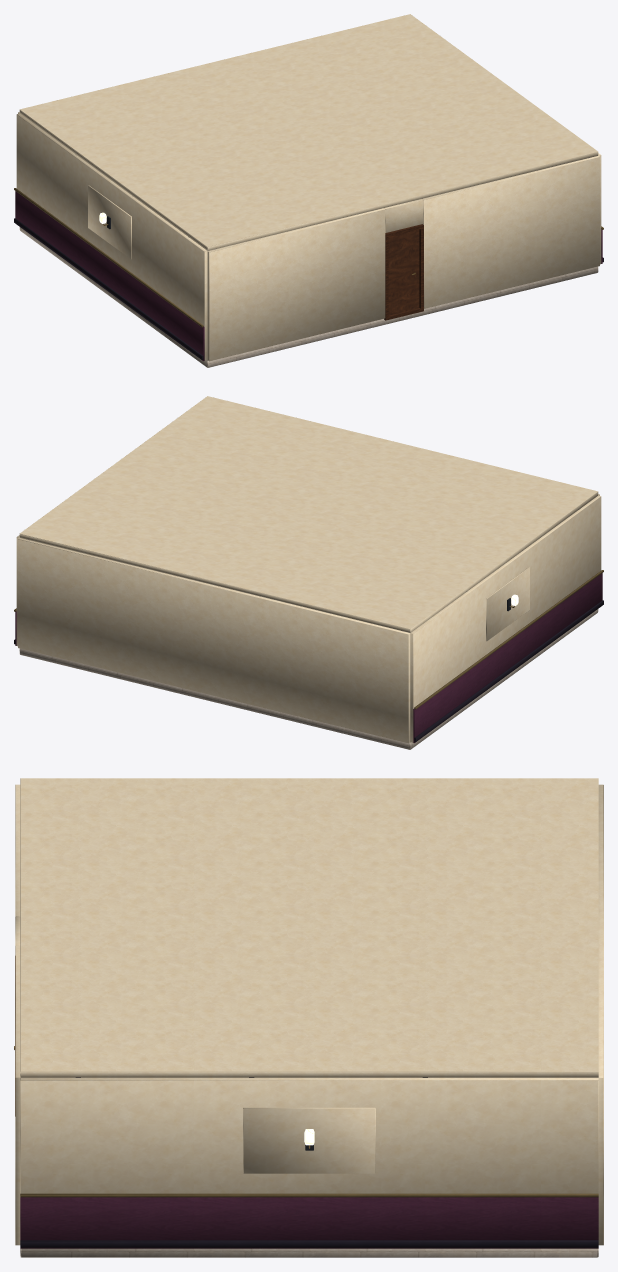
The model's file is explore3d__archive_room.glb.
The picture shows the model from 3 angles, top to bottom: view 1: azimuth 30°, elevation 25°; view 2: azimuth 150°, elevation 25°; view 3: azimuth 270°, elevation 25°; orthographic projection. The views are drawn at different scales.
Visible parts, largest first — view 1: Rebuilt_archive_room; view 2: Rebuilt_archive_room; view 3: Rebuilt_archive_room.
Boxes of the visible parts, <box> form: Rebuilt_archive_room: <box>14,14,603,367</box>; Rebuilt_archive_room: <box>14,396,603,749</box>; Rebuilt_archive_room: <box>14,778,603,1257</box>.
Bounding box in the file's own units: 12.79 × 3.56 × 10.2.
15 materials, 14 textured.
